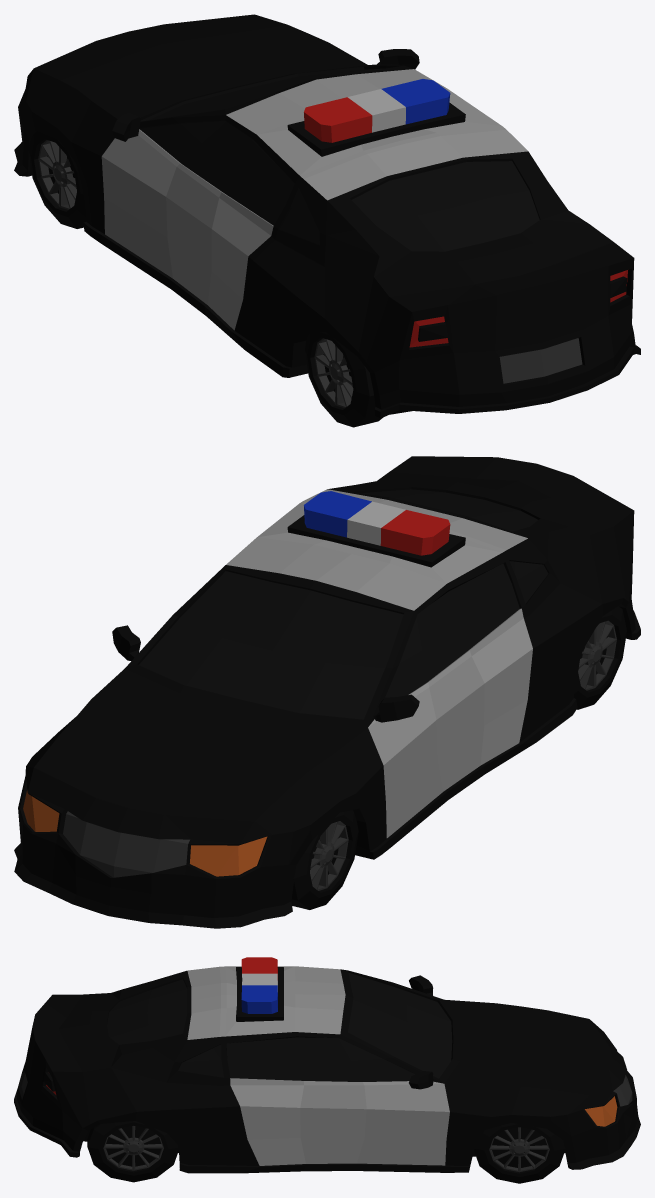
Rendered from Cop.glb.
3 renders of one model, top to bottom at view 1: azimuth 30°, elevation 25°; view 2: azimuth 150°, elevation 25°; view 3: azimuth 270°, elevation 25°, orthographic. The views are drawn at different scales.
Parts seen in each view (by area): view 1: Cop_Cube.001, Cop_BackWheels_Cylinder.001, Cop_FrontLeftWheel_Cylinder.011; view 2: Cop_Cube.001, Cop_FrontLeftWheel_Cylinder.011, Cop_BackWheels_Cylinder.001; view 3: Cop_Cube.001, Cop_BackWheels_Cylinder.001, Cop_FrontRightWheel_Cylinder.012.
Boxes of the visible parts, x1=… form: Cop_Cube.001: x1=14, y1=14, x2=640, y2=418; Cop_BackWheels_Cylinder.001: x1=305, y1=332, x2=382, y2=427; Cop_FrontLeftWheel_Cylinder.011: x1=28, y1=131, x2=86, y2=228; Cop_Cube.001: x1=14, y1=456, x2=640, y2=928; Cop_FrontLeftWheel_Cylinder.011: x1=291, y1=810, x2=358, y2=909; Cop_BackWheels_Cylinder.001: x1=574, y1=606, x2=626, y2=709; Cop_Cube.001: x1=14, y1=957, x2=640, y2=1173; Cop_BackWheels_Cylinder.001: x1=87, y1=1121, x2=178, y2=1182; Cop_FrontRightWheel_Cylinder.012: x1=474, y1=1123, x2=565, y2=1183.
Bounding box in the file's own units: 1.8 × 1.25 × 4.5.
